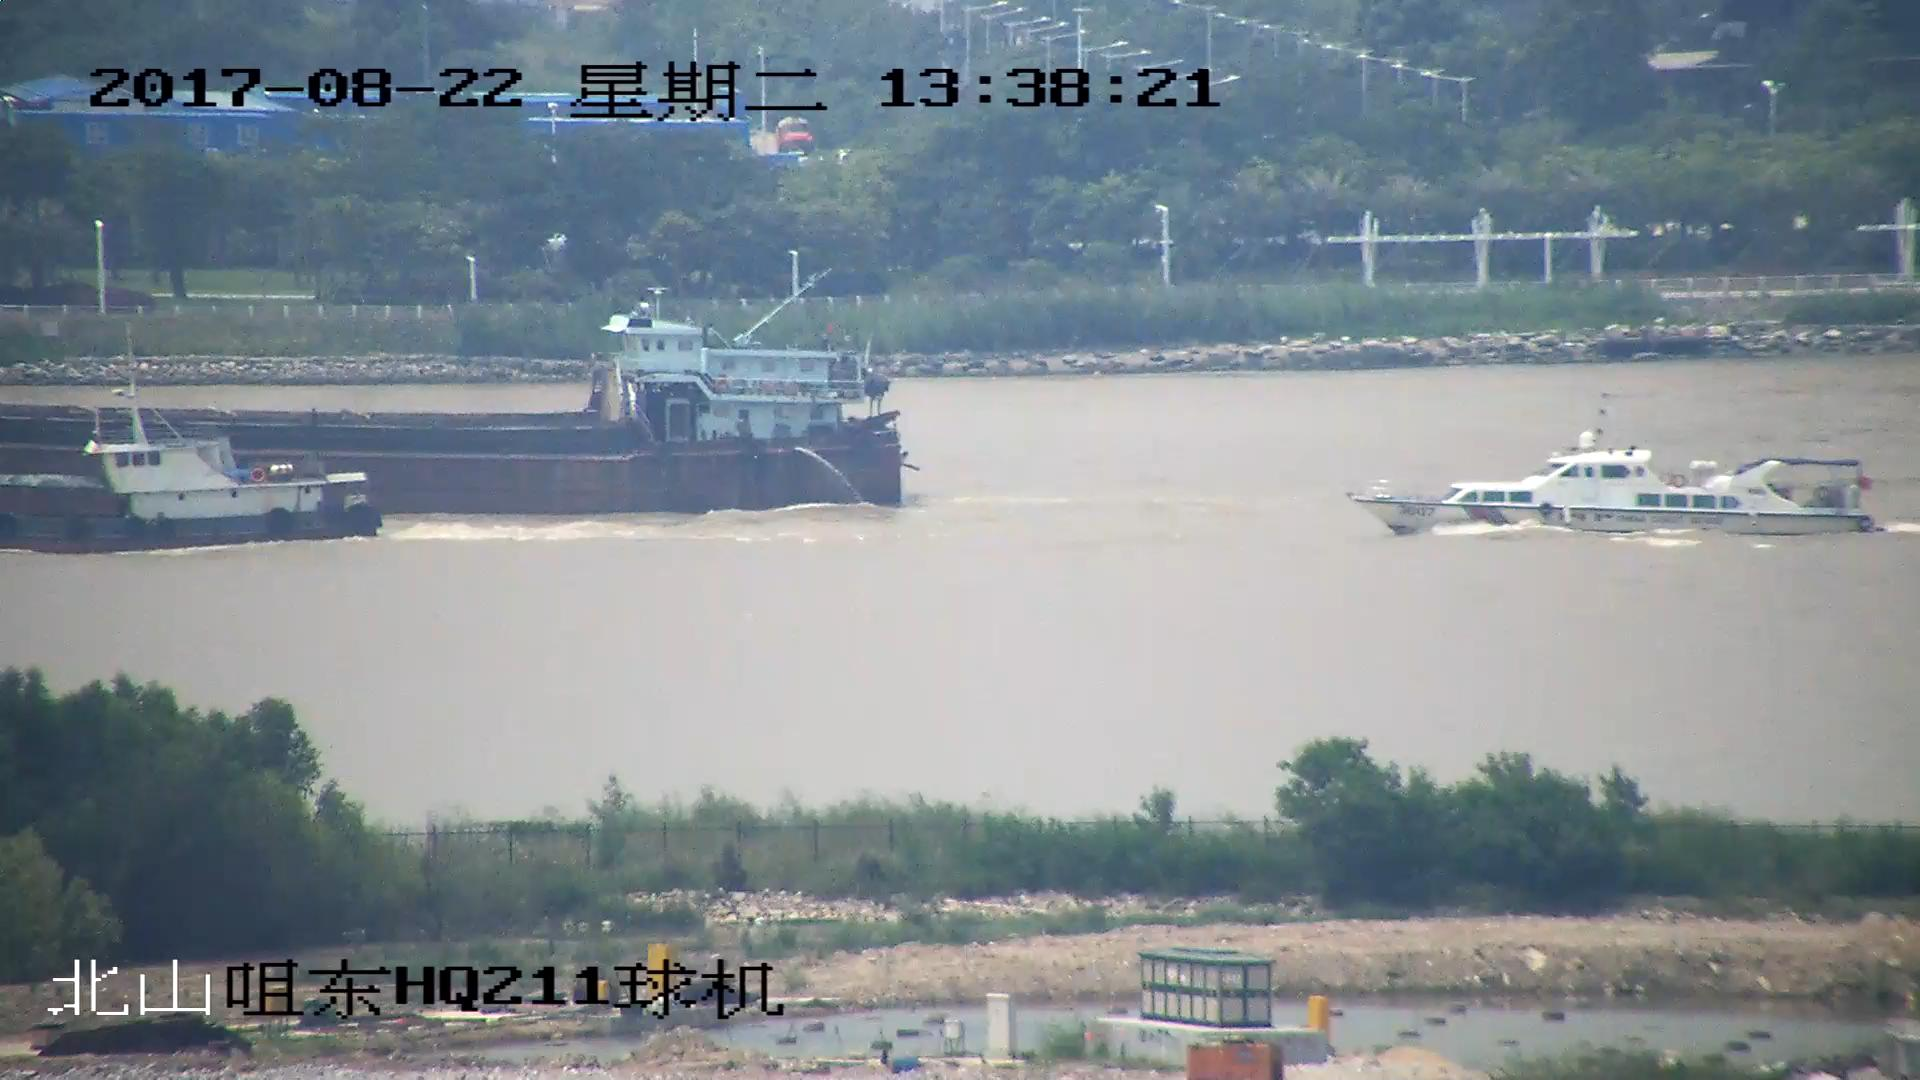bulk cargo carrier: (1, 283, 916, 514)
passenger ship: (1350, 412, 1884, 542), (1, 384, 391, 544)
